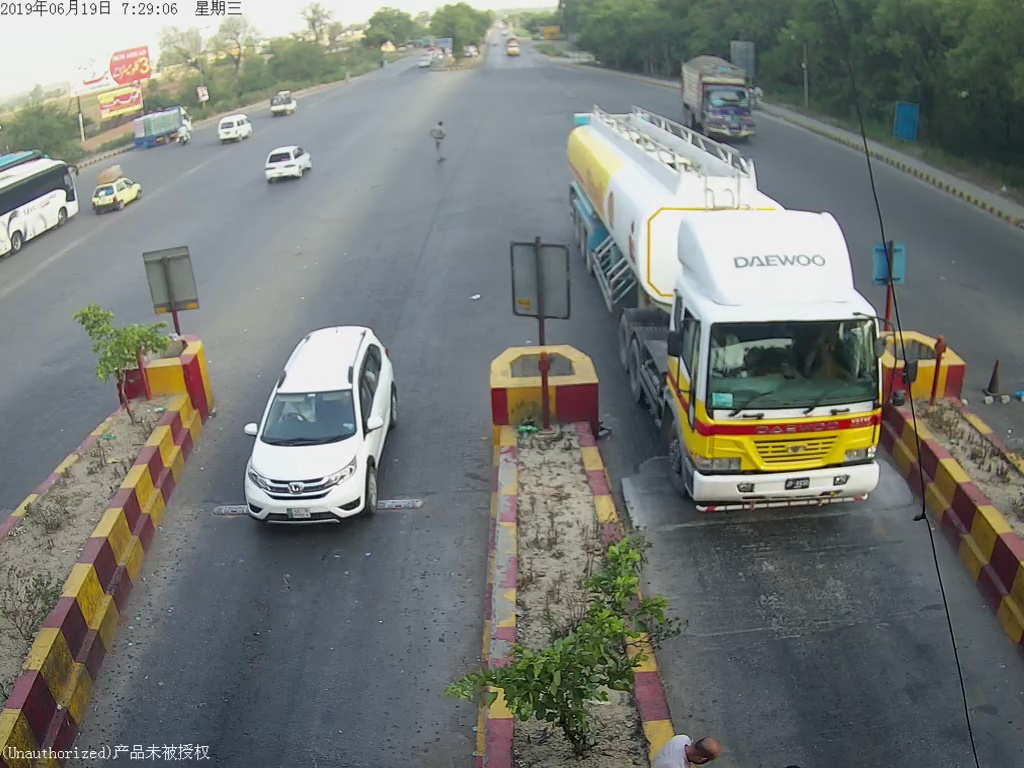Cat-1: (238, 324, 417, 529)
Cat-5: (553, 111, 883, 493)
